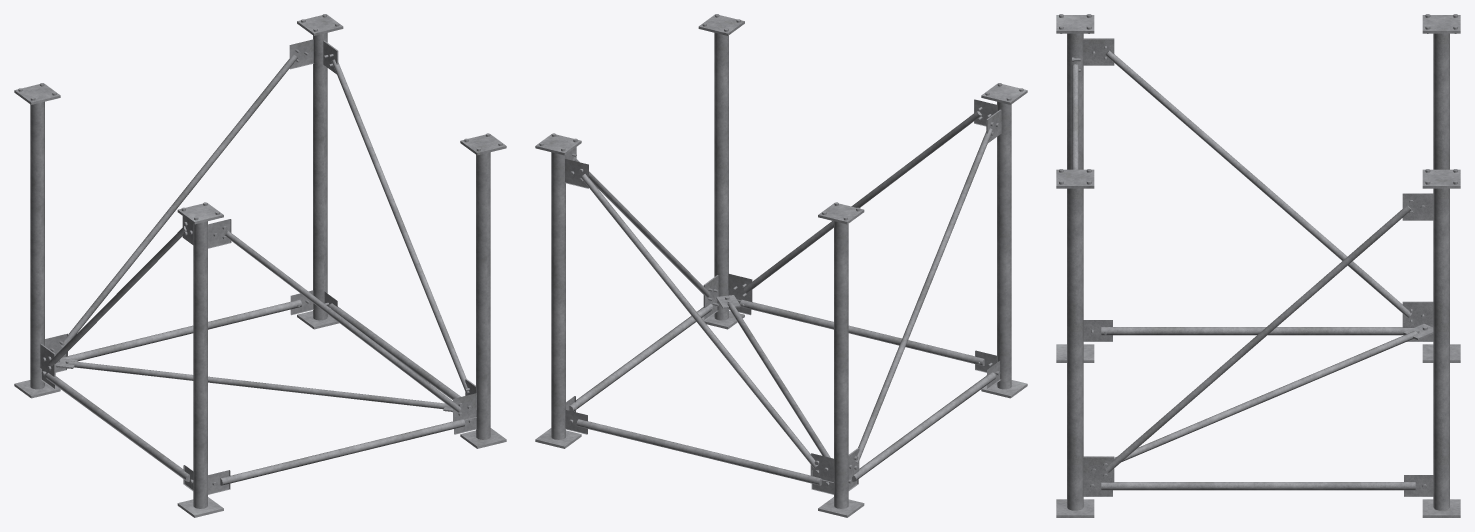
File: ramp_truss.glb
3 renders of one model, left to right at view 1: azimuth 30°, elevation 25°; view 2: azimuth 150°, elevation 25°; view 3: azimuth 270°, elevation 25°, orthographic. The views are drawn at different scales.
Parts seen in each view (by area): view 1: RampTruss; view 2: RampTruss; view 3: RampTruss.
Part boxes in pixels (<box>): RampTruss: <box>14,14,506,517</box>; RampTruss: <box>535,14,1027,517</box>; RampTruss: <box>1056,14,1460,517</box>.
Bounding box in the file's own units: 2.76 × 2.52 × 2.76.
1 material, 1 textured.
